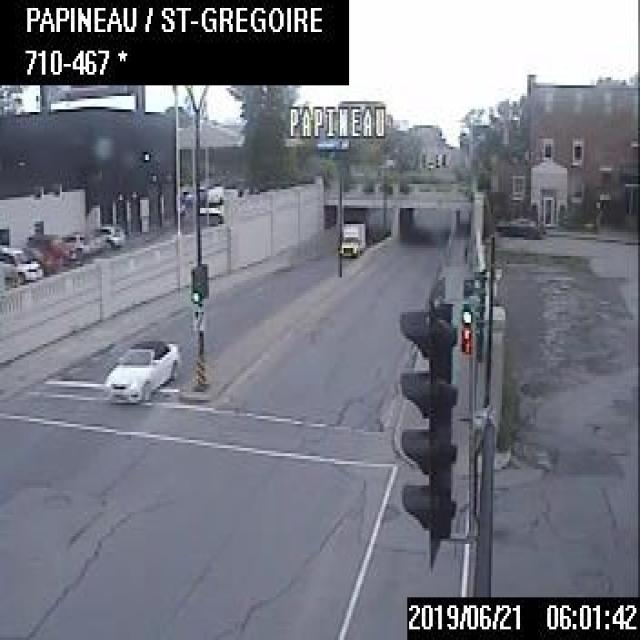vehicle: (98, 333, 182, 400), (0, 242, 42, 282), (495, 213, 544, 239), (340, 216, 364, 256), (89, 222, 124, 249), (58, 231, 89, 258)
